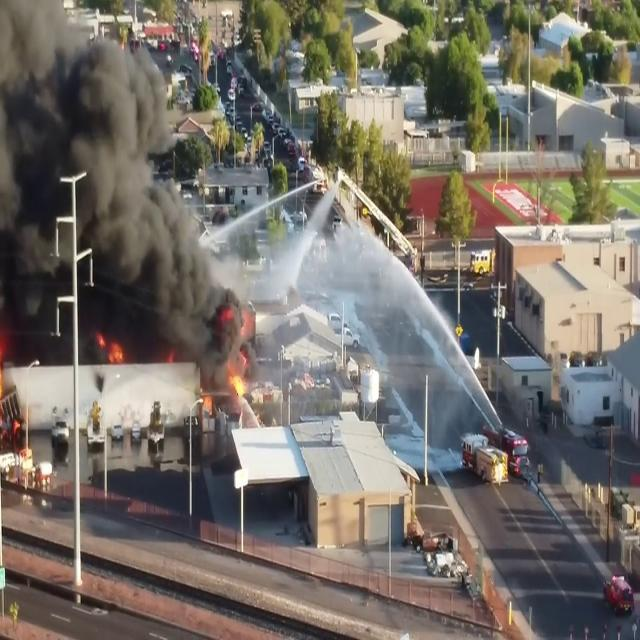Fire: (207, 348, 272, 412)
Smoke: (0, 0, 166, 375), (0, 173, 272, 352)
